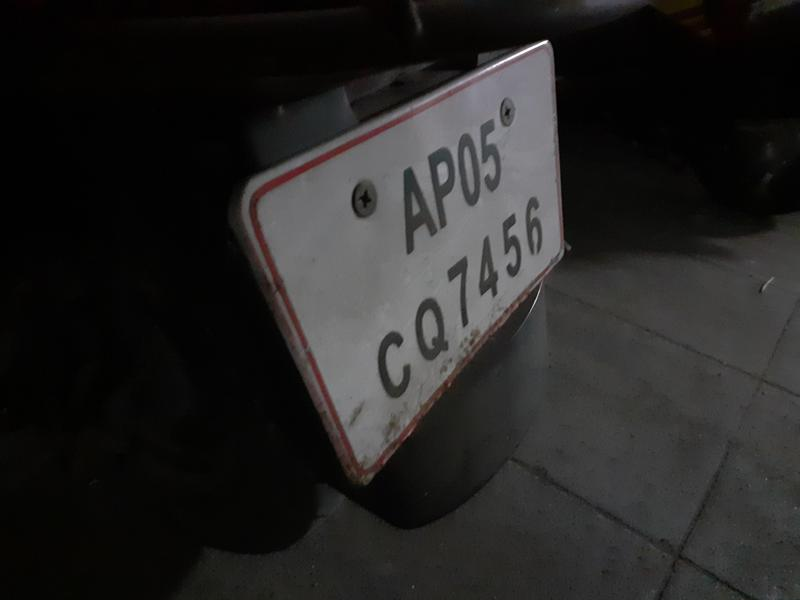numberplate: (310, 50, 573, 469)
